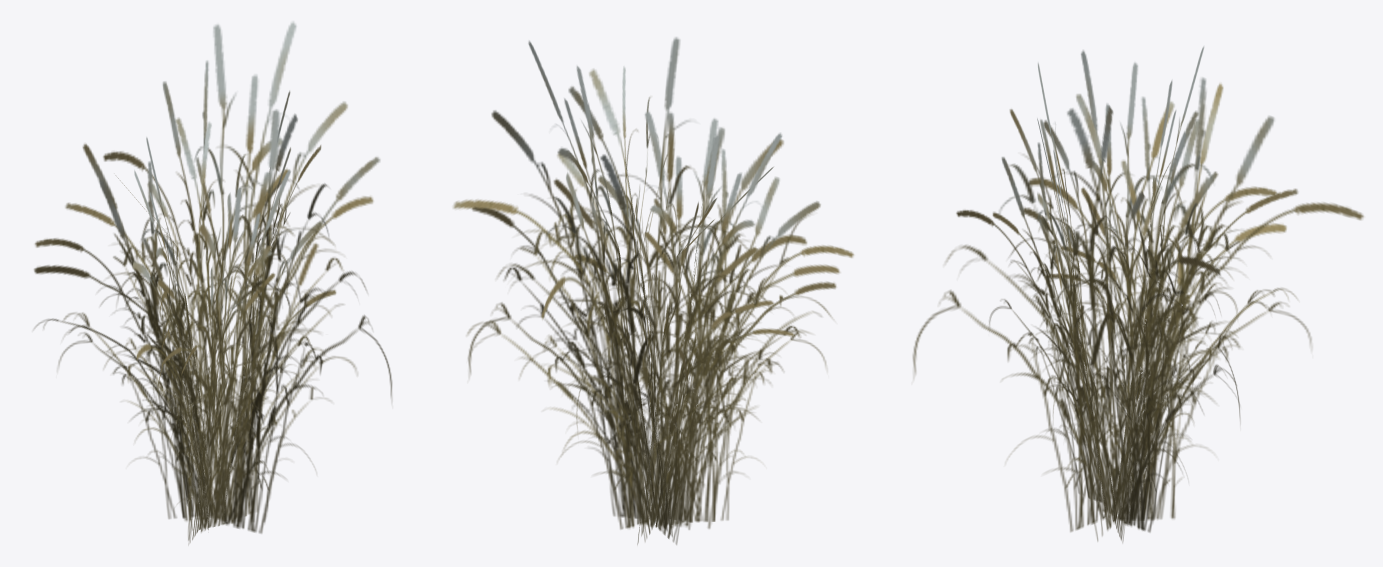
Rendered from ichu_13_nieve.glb.
3 renders of one model, left to right at view 1: azimuth 30°, elevation 25°; view 2: azimuth 150°, elevation 25°; view 3: azimuth 270°, elevation 25°, orthographic. The views are drawn at different scales.
Parts seen in each view (by area): view 1: Ichu; view 2: Ichu; view 3: Ichu.
Boxes of the visible parts, box(x1,y1,x2,y2) form: Ichu: box(34, 21, 392, 544); Ichu: box(452, 37, 853, 544); Ichu: box(913, 46, 1363, 542).
Bounding box in the file's own units: 0.3874 × 0.56 × 0.4687.
Materials: 1 (1 with a texture image).
